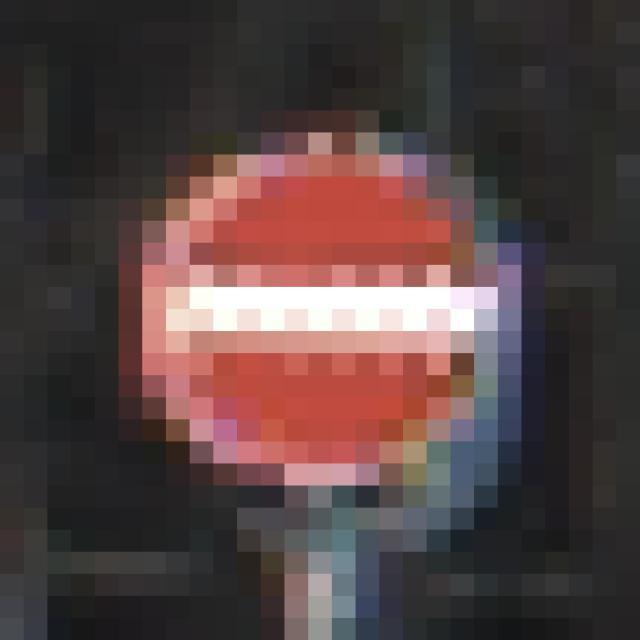No Entry: (120, 111, 523, 531)
